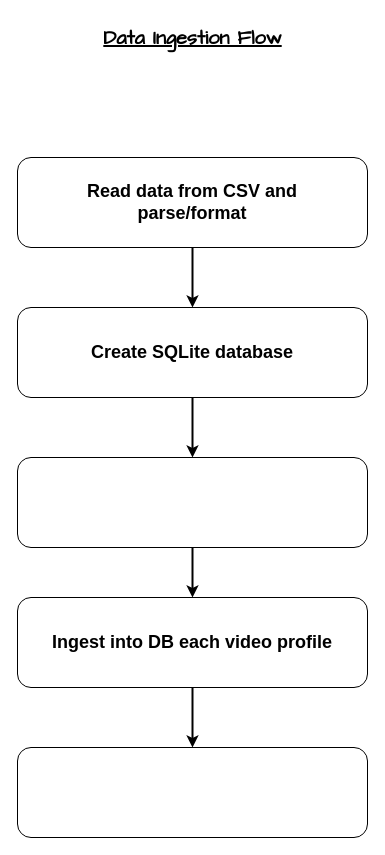
Some shapes in this 385 by 855 pixel diagram are drawn without their labels. The shapes that lost their labels are listed below. From the top down, each one's centre as x and y in pixels, then its label:
[192,502]: Create Video Profiles with Statistics
[192,792]: Finally "youtube_videos . db " is created which is our DB
